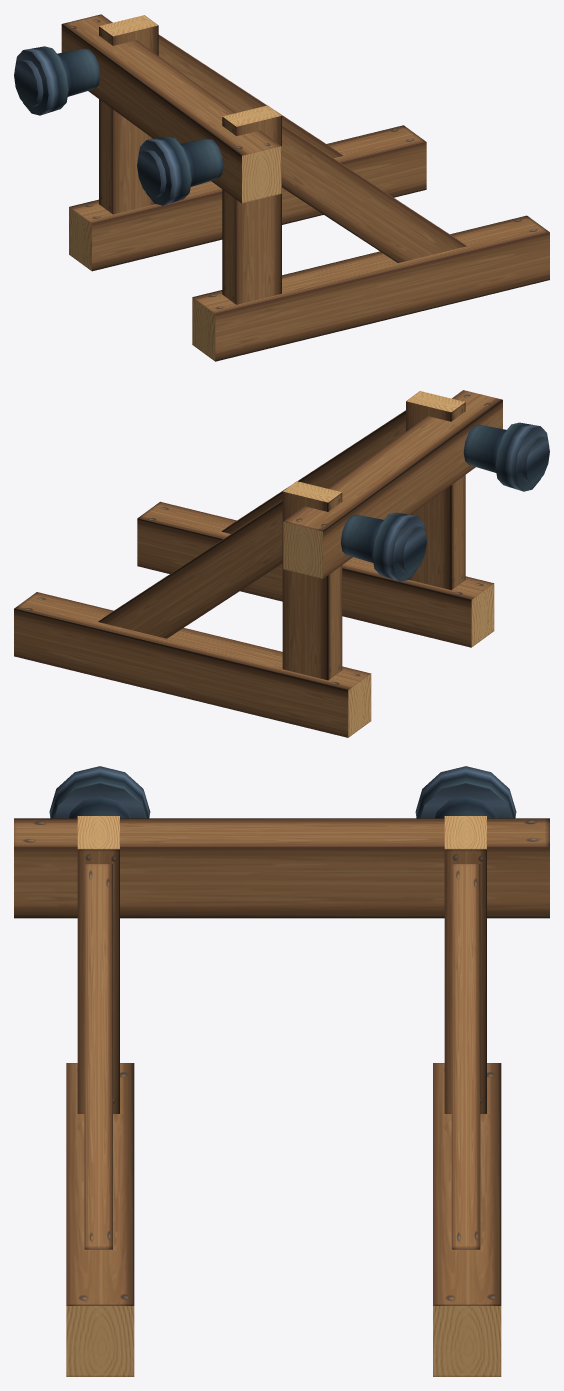
Rendered from RailStop_01.FBX.
3 renders of one model, top to bottom at view 1: azimuth 30°, elevation 25°; view 2: azimuth 150°, elevation 25°; view 3: azimuth 270°, elevation 25°, orthographic. The views are drawn at different scales.
Parts seen in each view (by area): view 1: RailStop_01; view 2: RailStop_01; view 3: RailStop_01.
Part boxes in pixels (bbox=[...]): RailStop_01: bbox=[14, 14, 549, 361]; RailStop_01: bbox=[14, 390, 549, 737]; RailStop_01: bbox=[14, 766, 549, 1376].
Size of the model in its own units: 2.86 by 1.58 by 2.29.
